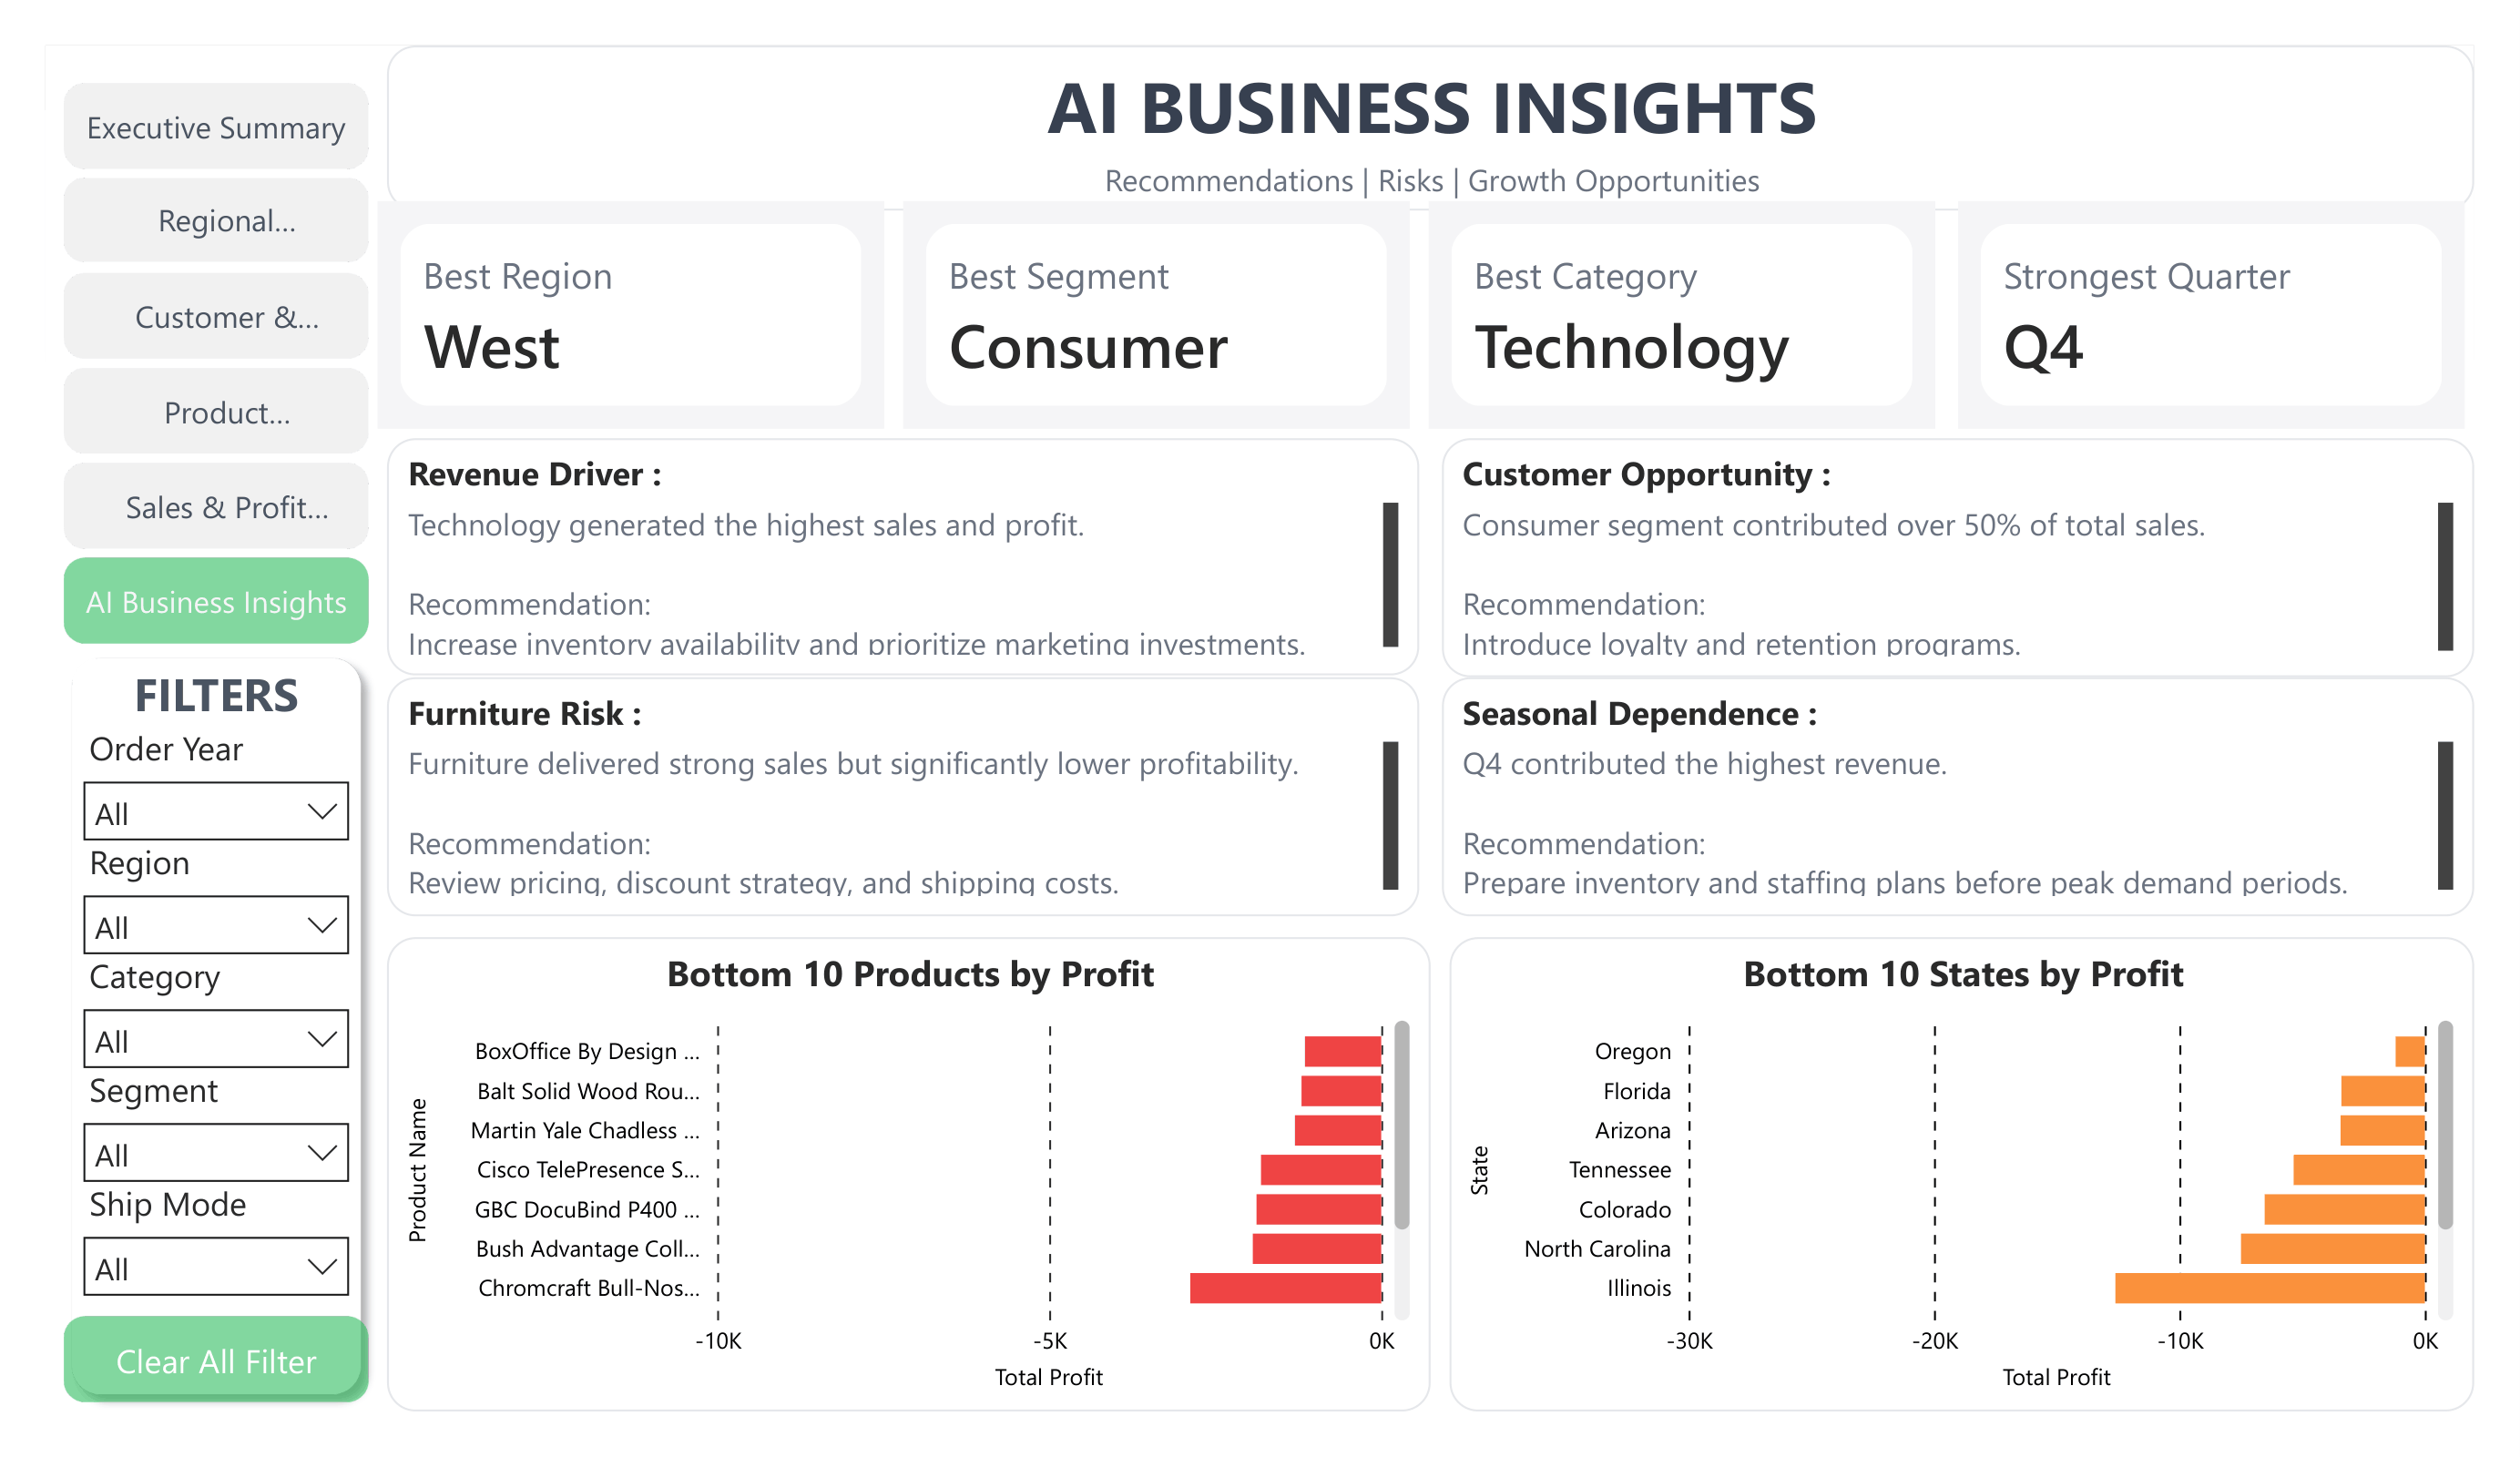

The page's visual inventory and layout, read from the dashboard file:
{"tool":"powerbi","page":{"name":"AI Business Insights","canvas":[1280,720],"ordinal":5},"visuals":[{"type":"textbox","title":"AI BUSINESS INSIGHTS","box":[180,0,1100,87.1],"z":0},{"type":"shape","box":[0,0,180,720],"z":1000},{"type":"actionButton","box":[10,70,160,44.3],"z":2000},{"type":"actionButton","box":[10,120,160,45],"z":3000},{"type":"actionButton","box":[10,170,160,45],"z":4000},{"type":"actionButton","box":[10,220,160,45],"z":5000},{"type":"actionButton","box":[10,270,160,45],"z":6000},{"type":"actionButton","box":[10,20,160,45],"z":7000},{"type":"shape","box":[5,314.3,170,405.7],"z":8000},{"type":"actionButton","box":[10,670,160,45],"z":9000},{"type":"slicer","fields":{"Values":["cleaned_superstore.Region"]},"box":[10,412.9,160,70],"z":10000},{"type":"slicer","fields":{"Values":["cleaned_superstore.Category"]},"box":[10,472.9,160,70],"z":11000},{"type":"slicer","fields":{"Values":["cleaned_superstore.Ship Mode"]},"box":[10,592.9,160,70],"z":12000},{"type":"slicer","fields":{"Values":["cleaned_superstore.Segment"]},"box":[10,532.9,160,70],"z":13000},{"type":"slicer","fields":{"Values":["cleaned_superstore.Order Year"]},"box":[10,352.9,160,70],"z":14000},{"type":"textbox","box":[10,320,160,46],"z":15000},{"type":"barChart","title":"Bottom 10 Products by Profit","fields":{"Category":["cleaned_superstore.Product Name"],"Y":["Measures_table.Total Profit"]},"box":[180,470,550,250],"z":16000},{"type":"barChart","title":"Bottom 10 States by Profit","fields":{"Y":["Measures_table.Total Profit"],"Category":["cleaned_superstore.State"]},"box":[740,470,540,250],"z":17000},{"type":"cardVisual","fields":{"Data":["Measures_table.Best Region"]},"box":[170,77.1,277,130],"z":18000},{"type":"cardVisual","fields":{"Data":["Measures_table.Best Segment"]},"box":[447.1,77.1,277.1,130],"z":19000},{"type":"cardVisual","fields":{"Data":["Measures_table.Best Category"]},"box":[724.3,77.1,277.1,130],"z":20000},{"type":"cardVisual","fields":{"Data":["Measures_table.Strongest Quarter"]},"box":[1002.9,77.1,277.1,130],"z":21000},{"type":"textbox","title":"Revenue Driver :","box":[180,207.1,544.3,125],"z":22000},{"type":"textbox","title":"Customer Opportunity :","box":[735.7,207.1,544.3,125.7],"z":23000},{"type":"textbox","title":"Furniture Risk : ","box":[180,332.9,544.3,125.7],"z":24000},{"type":"textbox","title":"Seasonal Dependence : ","box":[735.7,332.9,544.3,125.7],"z":25000}]}

Visuals, with their boxes on the page's 1280x720 design canvas (x1, y1, x2, y2). These are canvas units, not pixel positions in the 2520x1457 screenshot, which may show the page scaled, cropped or inside an application window:
"AI BUSINESS INSIGHTS" textbox: Rect(180, 0, 1280, 87)
shape: Rect(0, 0, 180, 720)
actionButton: Rect(10, 70, 170, 114)
actionButton: Rect(10, 120, 170, 165)
actionButton: Rect(10, 170, 170, 215)
actionButton: Rect(10, 220, 170, 265)
actionButton: Rect(10, 270, 170, 315)
actionButton: Rect(10, 20, 170, 65)
shape: Rect(5, 314, 175, 720)
actionButton: Rect(10, 670, 170, 715)
slicer - cleaned_superstore.Region: Rect(10, 413, 170, 483)
slicer - cleaned_superstore.Category: Rect(10, 473, 170, 543)
slicer - cleaned_superstore.Ship Mode: Rect(10, 593, 170, 663)
slicer - cleaned_superstore.Segment: Rect(10, 533, 170, 603)
slicer - cleaned_superstore.Order Year: Rect(10, 353, 170, 423)
textbox: Rect(10, 320, 170, 366)
"Bottom 10 Products by Profit" barChart: Rect(180, 470, 730, 720)
"Bottom 10 States by Profit" barChart: Rect(740, 470, 1280, 720)
cardVisual - Measures_table.Best Region: Rect(170, 77, 447, 207)
cardVisual - Measures_table.Best Segment: Rect(447, 77, 724, 207)
cardVisual - Measures_table.Best Category: Rect(724, 77, 1001, 207)
cardVisual - Measures_table.Strongest Quarter: Rect(1003, 77, 1280, 207)
"Revenue Driver :" textbox: Rect(180, 207, 724, 332)
"Customer Opportunity :" textbox: Rect(736, 207, 1280, 333)
"Furniture Risk : " textbox: Rect(180, 333, 724, 459)
"Seasonal Dependence : " textbox: Rect(736, 333, 1280, 459)
